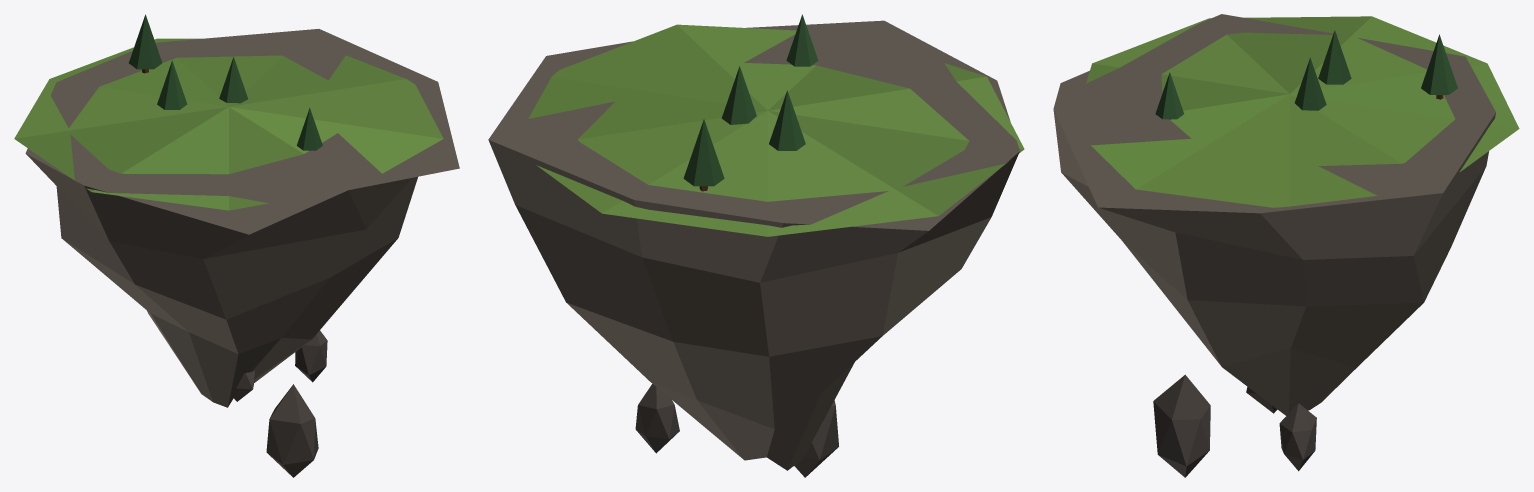
The model's file is floating_island_2.glb.
3 views of the same model, side by side, from view 1: azimuth 30°, elevation 25°; view 2: azimuth 150°, elevation 25°; view 3: azimuth 270°, elevation 25° (orthographic). The views are drawn at different scales.
Visible parts, largest first — view 1: floating_island_2_rock, floating_island_2_grass_cap, floating_island_2_hanging_rock1, floating_island_2_hanging_rock2, floating_island_2_tree3_crown, floating_island_2_tree1_crown, floating_island_2_tree2_crown, floating_island_2_tree0_crown; view 2: floating_island_2_rock, floating_island_2_grass_cap, floating_island_2_hanging_rock2, floating_island_2_tree3_crown, floating_island_2_hanging_rock1, floating_island_2_tree1_crown, floating_island_2_tree2_crown, floating_island_2_tree0_crown; view 3: floating_island_2_rock, floating_island_2_grass_cap, floating_island_2_hanging_rock1, floating_island_2_hanging_rock2, floating_island_2_tree3_crown, floating_island_2_tree1_crown, floating_island_2_tree2_crown, floating_island_2_tree0_crown.
Part boxes in pixels (bbox=[...]): floating_island_2_rock: bbox=[25, 29, 459, 407]; floating_island_2_grass_cap: bbox=[14, 38, 443, 210]; floating_island_2_hanging_rock1: bbox=[266, 384, 318, 477]; floating_island_2_hanging_rock2: bbox=[295, 330, 327, 382]; floating_island_2_tree3_crown: bbox=[129, 14, 162, 69]; floating_island_2_tree1_crown: bbox=[157, 60, 187, 109]; floating_island_2_tree2_crown: bbox=[219, 57, 247, 103]; floating_island_2_tree0_crown: bbox=[296, 107, 322, 150]; floating_island_2_rock: bbox=[488, 20, 1019, 470]; floating_island_2_grass_cap: bbox=[528, 24, 1024, 236]; floating_island_2_hanging_rock2: bbox=[635, 384, 679, 453]; floating_island_2_tree3_crown: bbox=[683, 119, 724, 186]; floating_island_2_hanging_rock1: bbox=[794, 400, 838, 477]; floating_island_2_tree1_crown: bbox=[769, 90, 805, 150]; floating_island_2_tree2_crown: bbox=[721, 66, 756, 124]; floating_island_2_tree0_crown: bbox=[786, 14, 818, 66]; floating_island_2_rock: bbox=[1053, 14, 1495, 415]; floating_island_2_grass_cap: bbox=[1086, 16, 1519, 207]; floating_island_2_hanging_rock1: bbox=[1153, 374, 1210, 477]; floating_island_2_hanging_rock2: bbox=[1279, 403, 1316, 471]; floating_island_2_tree3_crown: bbox=[1421, 34, 1457, 94]; floating_island_2_tree1_crown: bbox=[1318, 30, 1351, 84]; floating_island_2_tree2_crown: bbox=[1294, 57, 1326, 110]; floating_island_2_tree0_crown: bbox=[1155, 72, 1183, 119].
Bounding box in the file's own units: 68.55 × 68 × 67.36.
